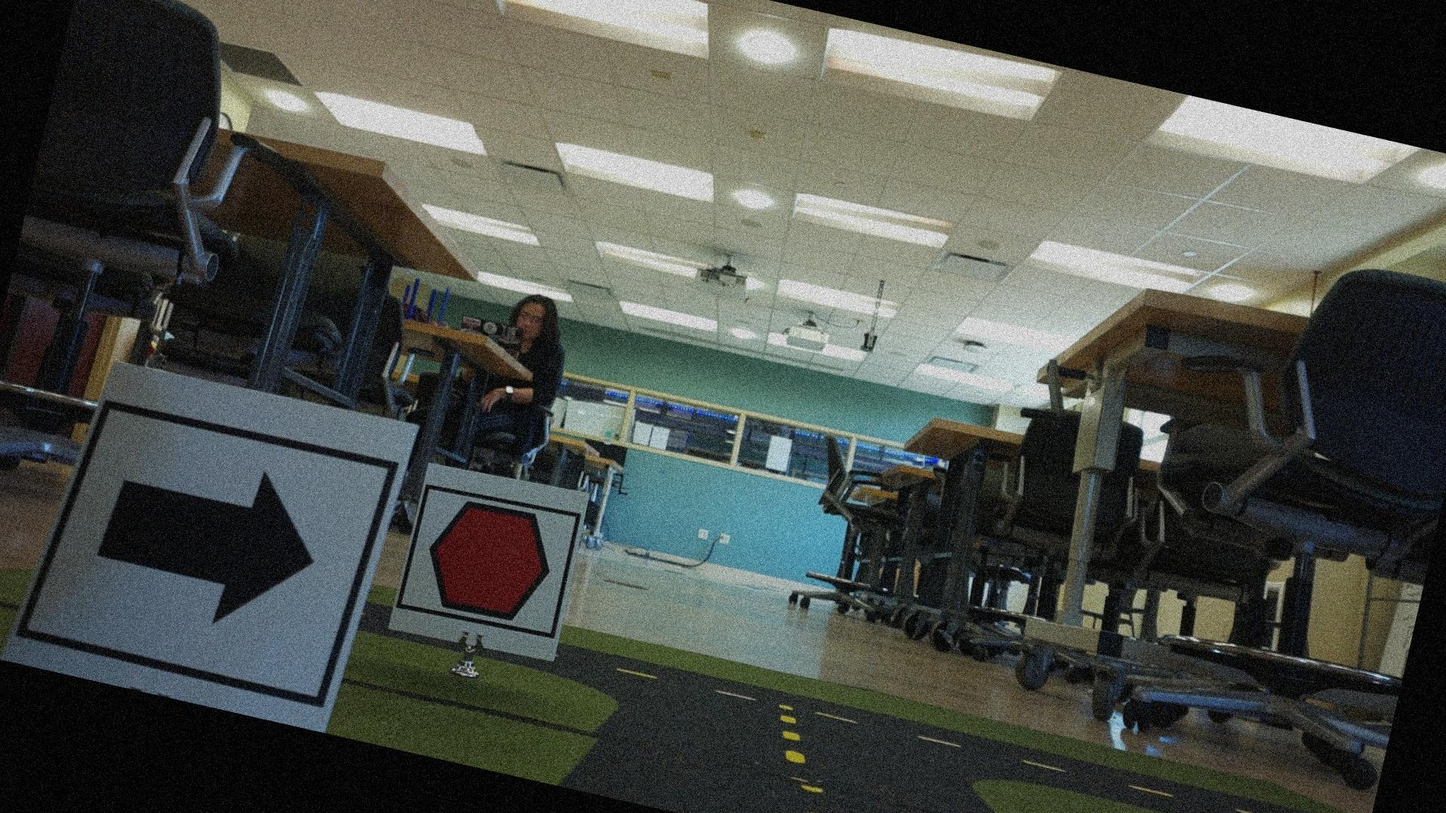stop: (400, 482, 584, 641)
turnright: (50, 404, 366, 699)
yellowline: (755, 710, 858, 812)
